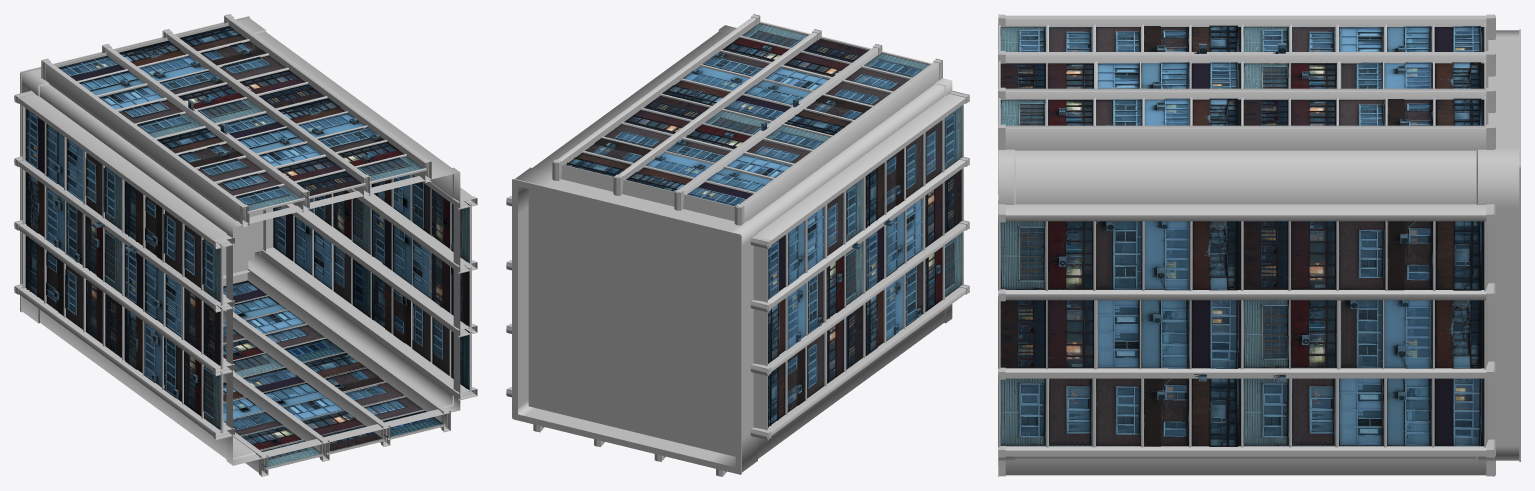
Rendered from trash.fbx.
The picture shows the model from 3 angles, left to right: view 1: azimuth 30°, elevation 25°; view 2: azimuth 150°, elevation 25°; view 3: azimuth 270°, elevation 25°; orthographic projection. The views are drawn at different scales.
Parts seen in each view (by area): view 1: Panel_House_Wikipedia_of_Russia_01_01; view 2: Panel_House_Wikipedia_of_Russia_01_01; view 3: Panel_House_Wikipedia_of_Russia_01_01.
Part boxes in pixels (x1,y1,x2,y2): Panel_House_Wikipedia_of_Russia_01_01: (14,14,477,476); Panel_House_Wikipedia_of_Russia_01_01: (506,14,969,476); Panel_House_Wikipedia_of_Russia_01_01: (998,14,1520,476).
Size of the model in its own units: 97.19 by 97.19 by 130.
